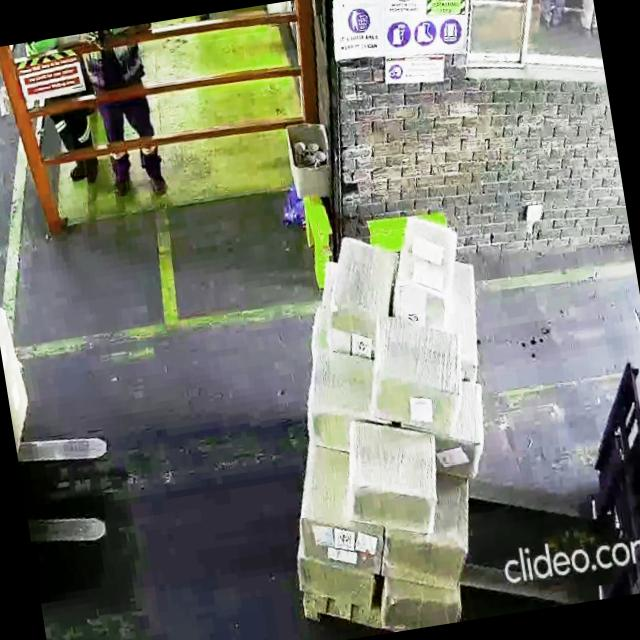Box: (365, 308, 471, 427), (340, 418, 446, 537), (379, 207, 475, 323), (302, 341, 380, 445), (382, 520, 475, 602), (327, 232, 395, 338), (295, 502, 385, 576), (292, 546, 374, 626), (380, 575, 460, 633)
